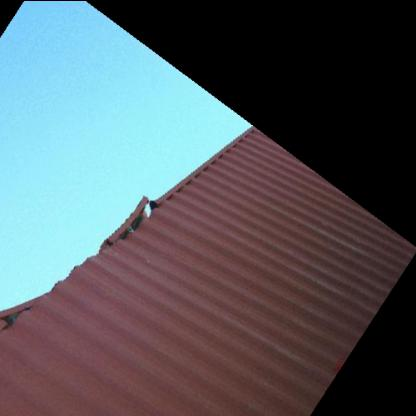Damage: (81, 192, 160, 270)
